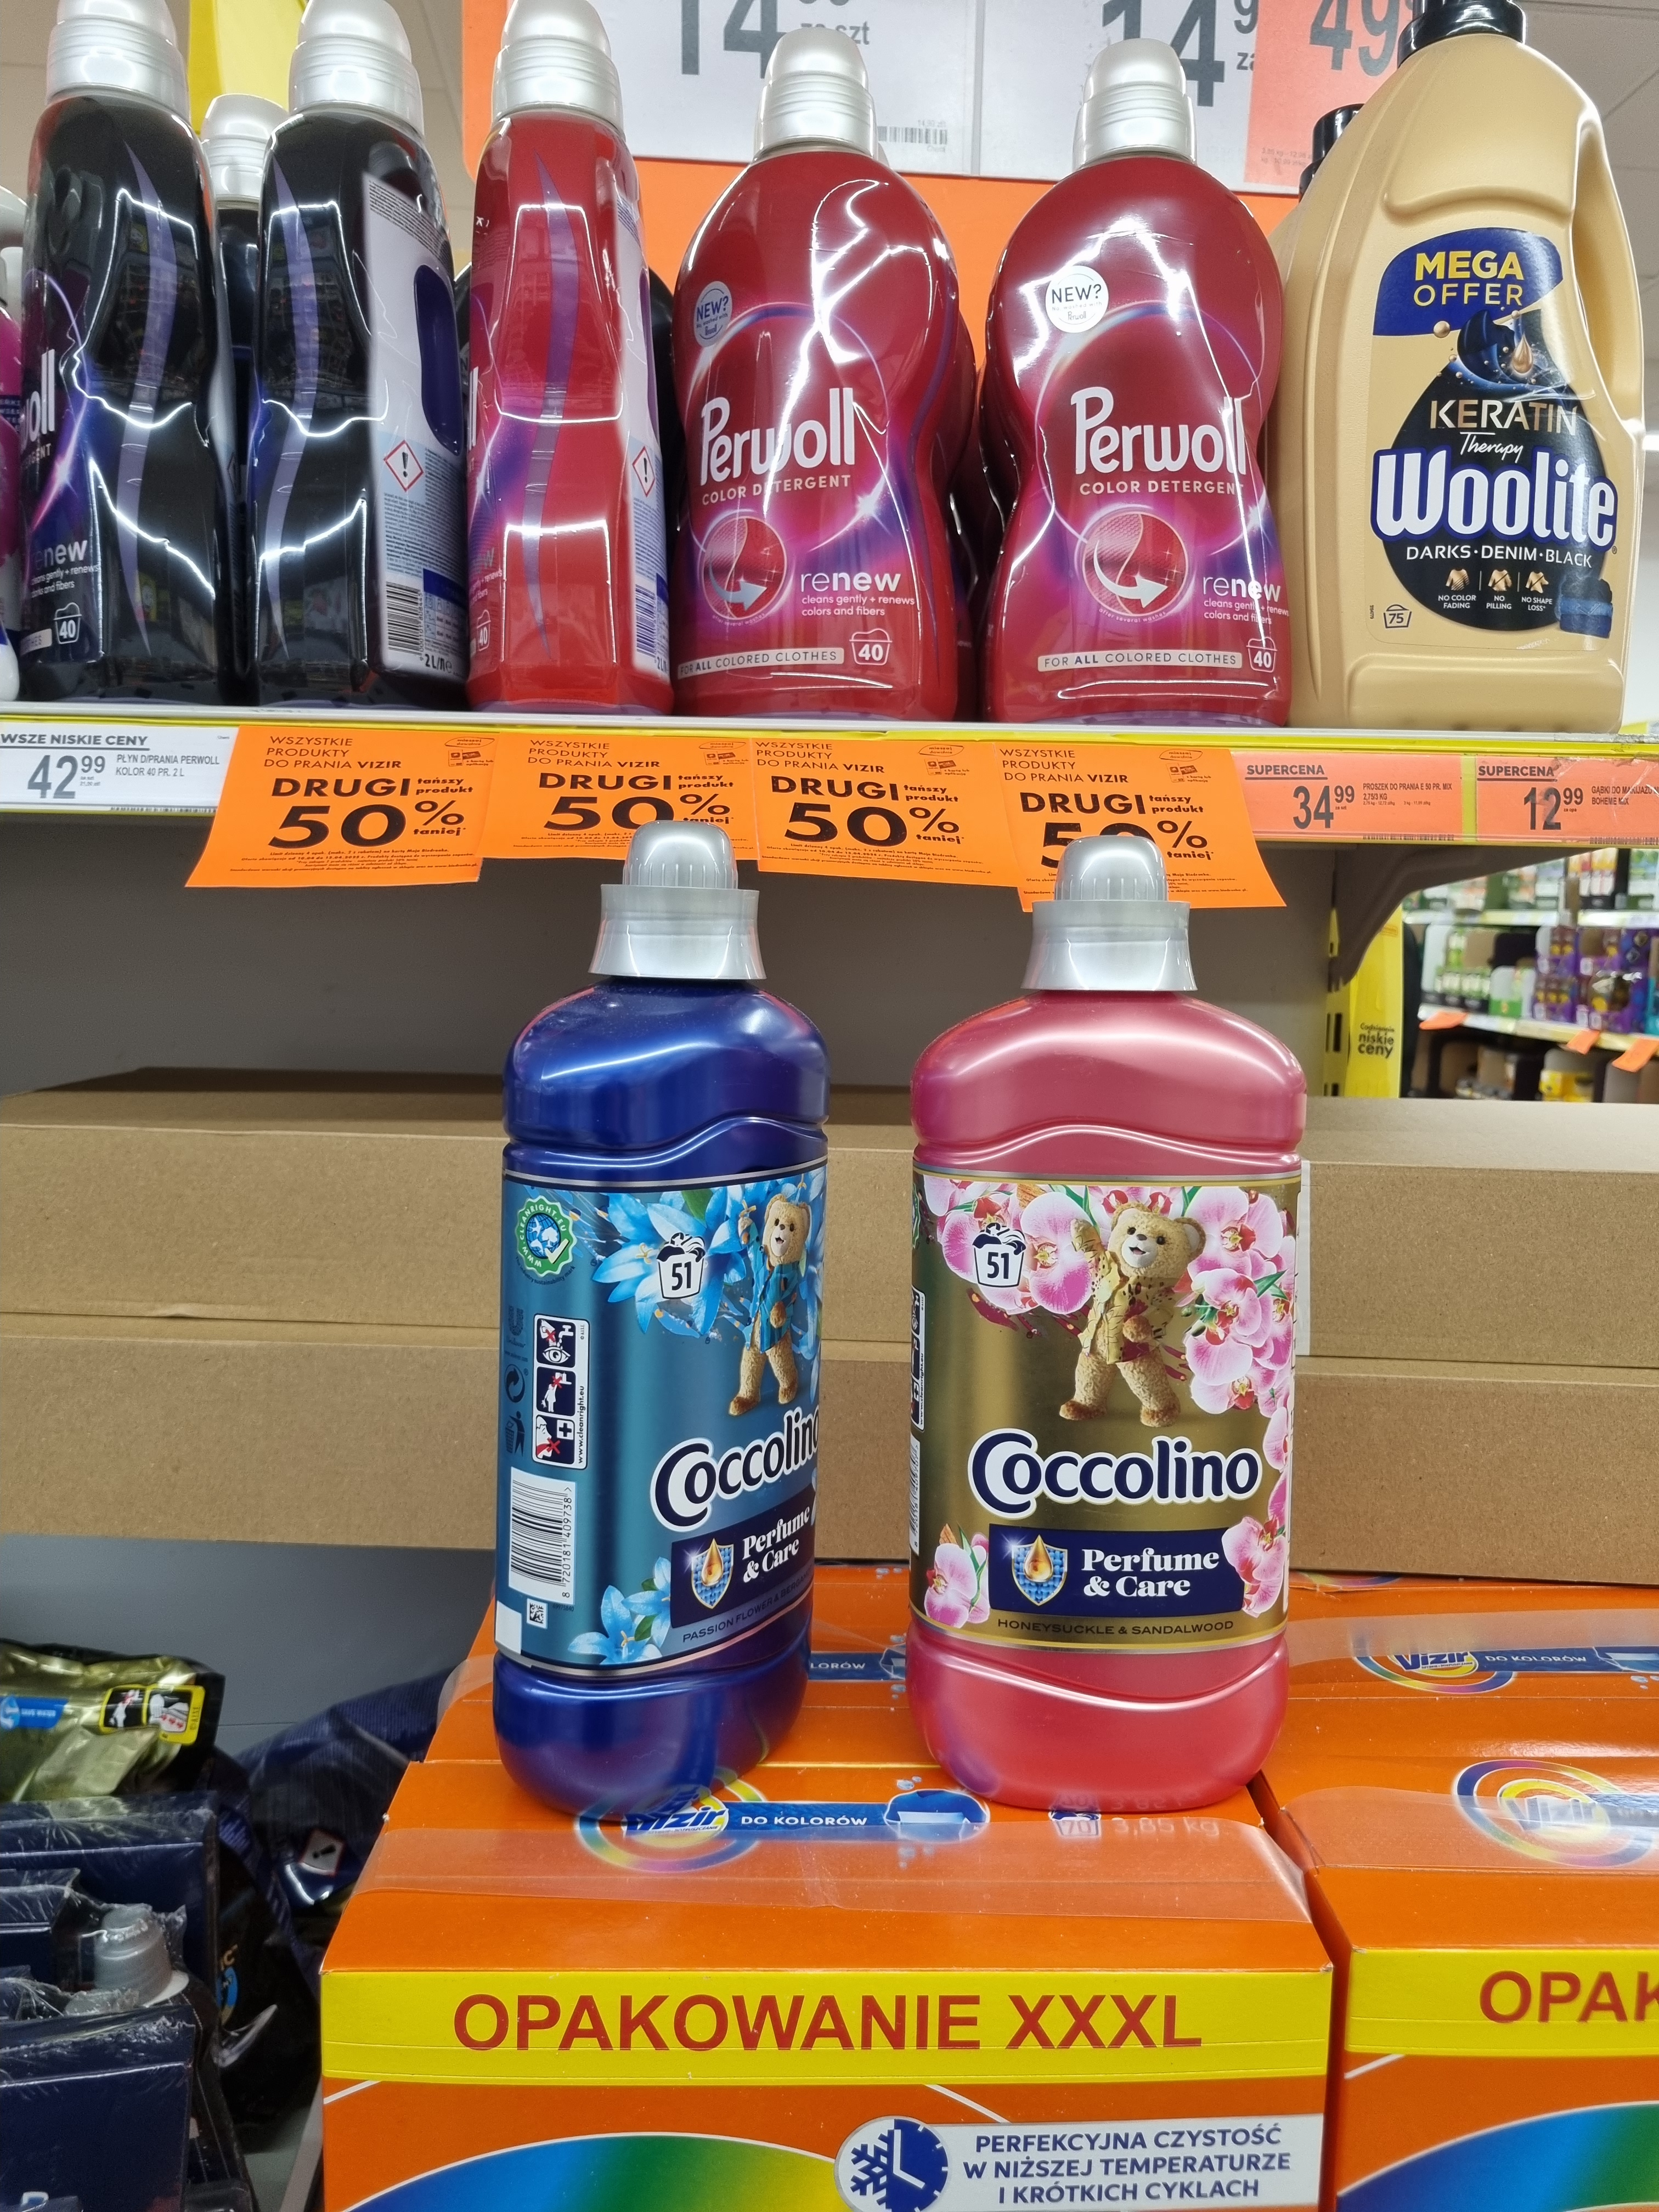cocolino: (904, 986, 1314, 1817), (490, 981, 814, 1832)
